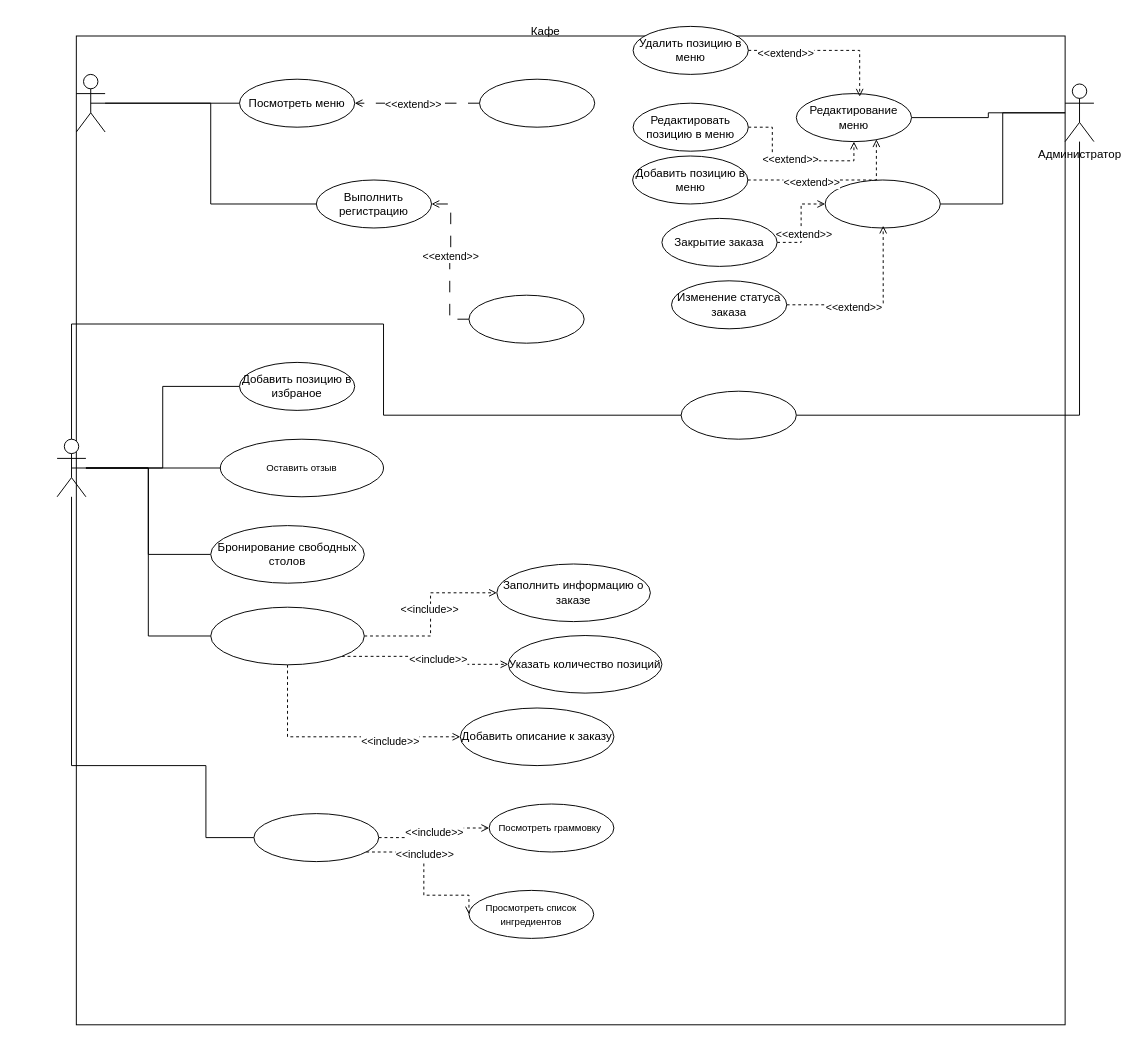
Some shapes in this 1138 by 1042 pixel diagram are drawn without their labels. The centre of each missing label's shape, as x and y in pixels:
Авторизация: point 738,414
Войти в систему: point 526,318
Добавить позицию в корзину: point 287,635
Зарегистированный пользователь: point 71,467
Клиент: point 90,102
Посмотреть информацию о позиции в меню: point 316,837
Управление заказами: point 882,203
Фильтрация меню по категориям: point 537,102
